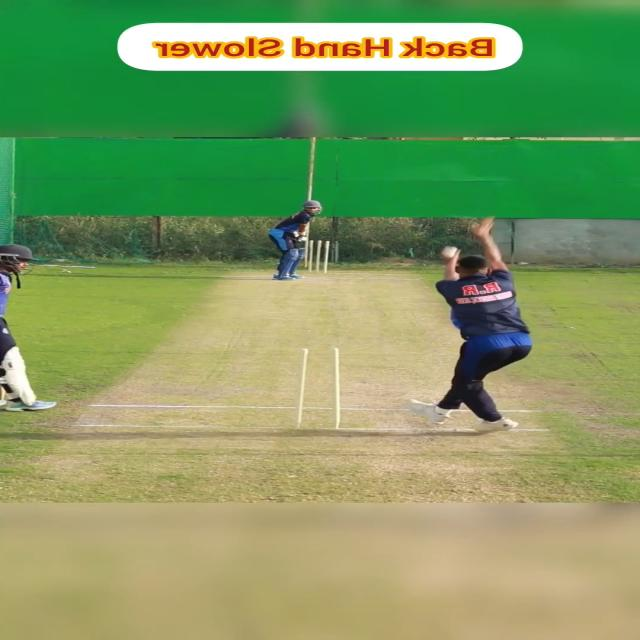stump: (292, 346, 344, 428), (308, 240, 331, 274)
